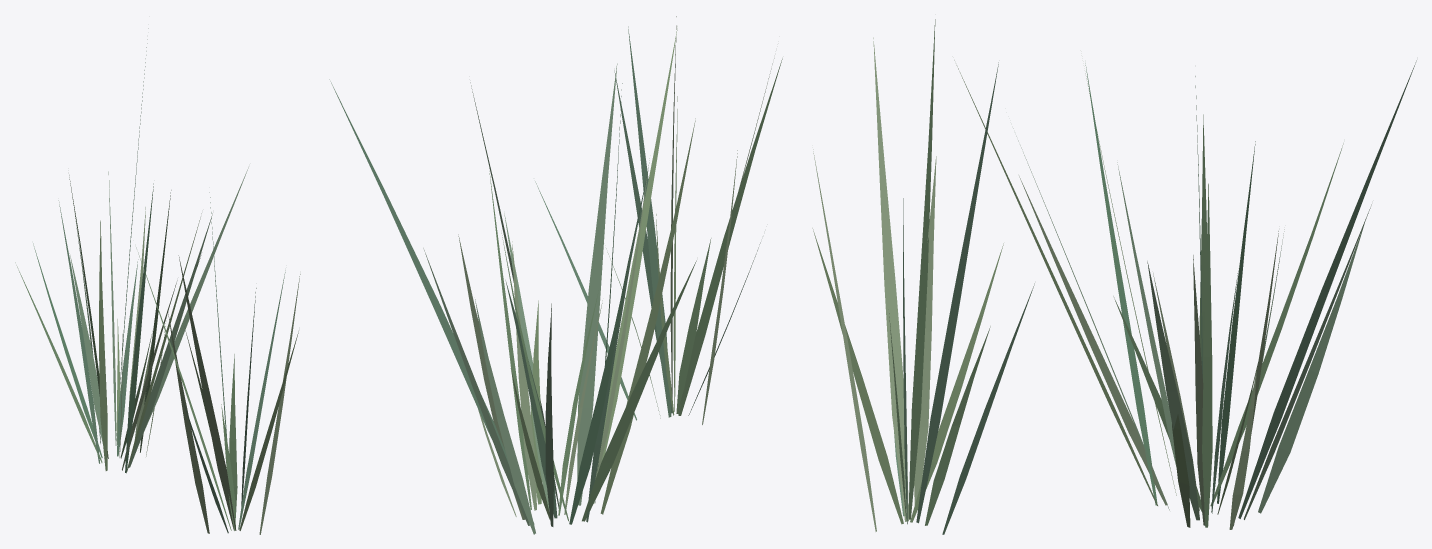
The model's file is E07_VEG01_ARVORE_JOVEM_MEDIO_R3Z2_REV04.glb.
3 renders of one model, left to right at view 1: azimuth 30°, elevation 25°; view 2: azimuth 150°, elevation 25°; view 3: azimuth 270°, elevation 25°, orthographic. The views are drawn at different scales.
Parts seen in each view (by area): view 1: world; view 2: world; view 3: world.
Boxes of the visible parts, bbox=[...] form: world: bbox=[15, 28, 300, 534]; world: bbox=[329, 16, 782, 534]; world: bbox=[812, 19, 1416, 534].
Size of the model in its own units: 0.4908 by 0.8178 by 0.849.
